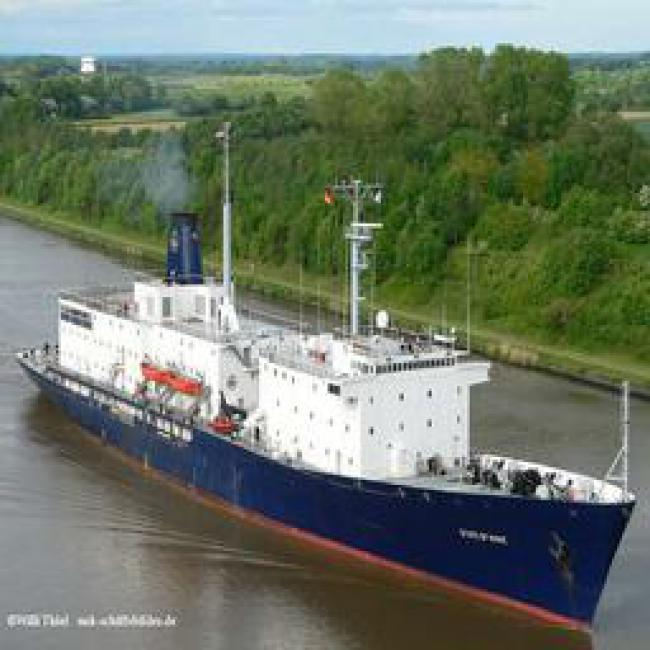Ship: (19, 236, 638, 624)
